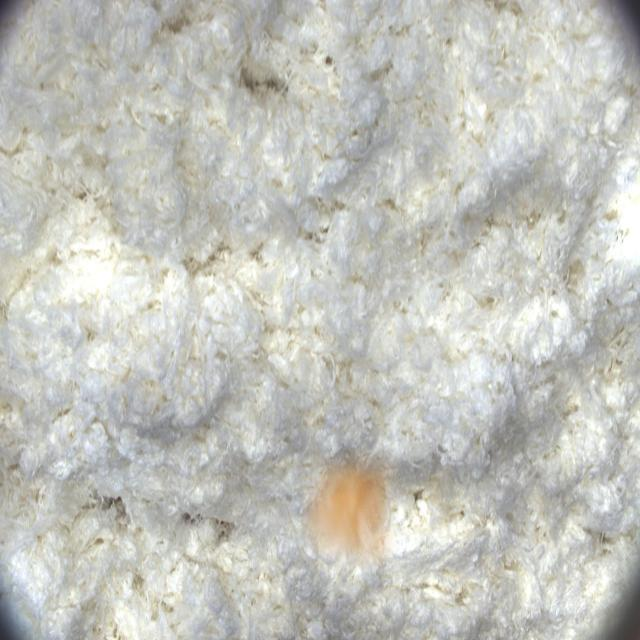dust: (301, 450, 398, 570)
